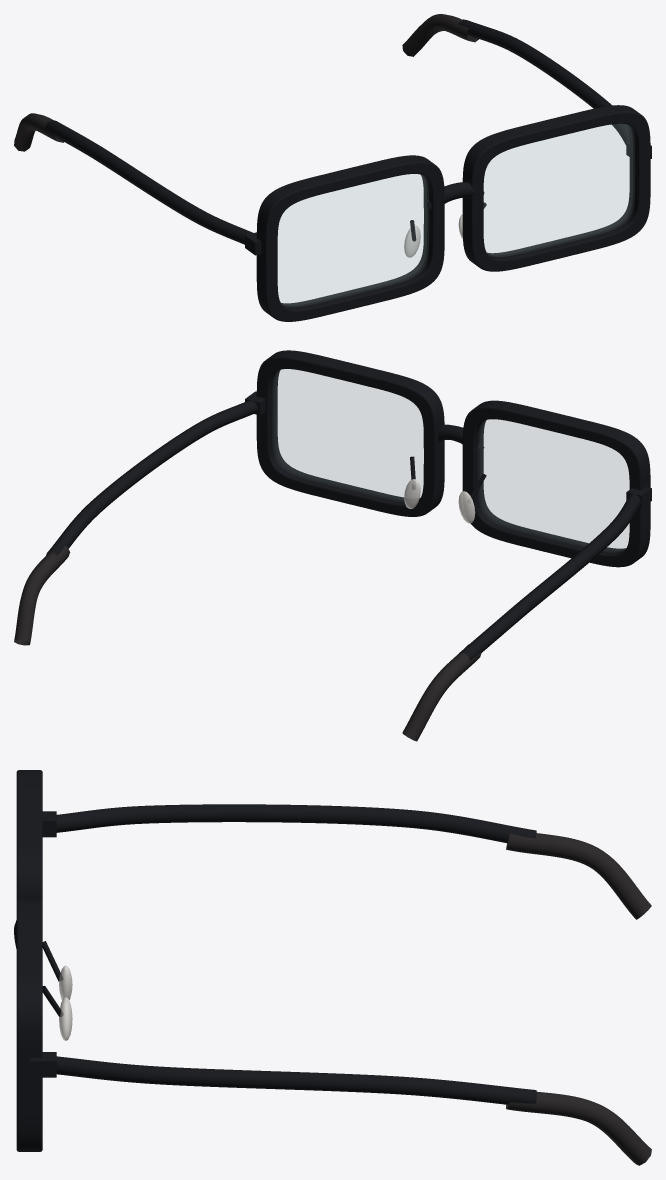
File: tatoe_square.glb
3 views of the same model, one above another, from view 1: azimuth 30°, elevation 25°; view 2: azimuth 150°, elevation 25°; view 3: azimuth 270°, elevation 25° (orthographic). The views are drawn at different scales.
Visible parts, largest first — view 1: left_lens, right_lens, left_rim, right_rim, left_temple, right_temple, right_ear_tip, left_ear_tip, bridge; view 2: right_lens, left_lens, right_rim, left_rim, right_temple, left_temple, left_ear_tip, right_ear_tip; view 3: right_temple, left_temple, right_rim, left_rim, left_ear_tip, right_ear_tip, right_hinge.
Part boxes in pixels (bbox=[...]): left_lens: bbox=[278, 174, 427, 305]; right_lens: bbox=[484, 124, 632, 255]; left_rim: bbox=[256, 155, 444, 321]; right_rim: bbox=[462, 105, 650, 271]; left_temple: bbox=[45, 120, 253, 244]; right_temple: bbox=[459, 19, 629, 145]; right_ear_tip: bbox=[402, 14, 478, 56]; left_ear_tip: bbox=[14, 113, 63, 151]; bridge: bbox=[424, 182, 484, 209]; right_lens: bbox=[274, 369, 423, 500]; left_lens: bbox=[480, 419, 629, 550]; right_rim: bbox=[256, 350, 444, 516]; left_rim: bbox=[462, 400, 650, 567]; right_temple: bbox=[46, 399, 257, 555]; left_temple: bbox=[459, 492, 641, 660]; left_ear_tip: bbox=[402, 644, 481, 741]; right_ear_tip: bbox=[14, 545, 70, 645]; right_temple: bbox=[52, 1056, 536, 1104]; left_temple: bbox=[52, 804, 536, 843]; right_rim: bbox=[16, 900, 42, 1151]; left_rim: bbox=[16, 770, 42, 901]; left_ear_tip: bbox=[506, 833, 651, 919]; right_ear_tip: bbox=[506, 1091, 651, 1165]; right_hinge: bbox=[29, 1052, 56, 1077].
Size of the model in its own units: 0.1444 by 0.042 by 0.1413.
